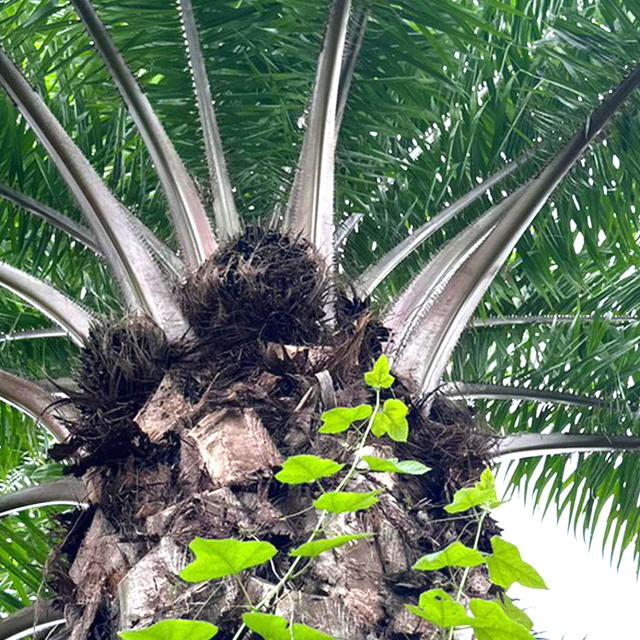unripe: (182, 206, 344, 338)
